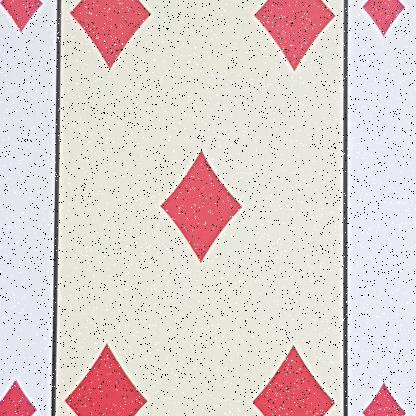5d: (346, 0, 415, 63), (358, 370, 415, 415)
